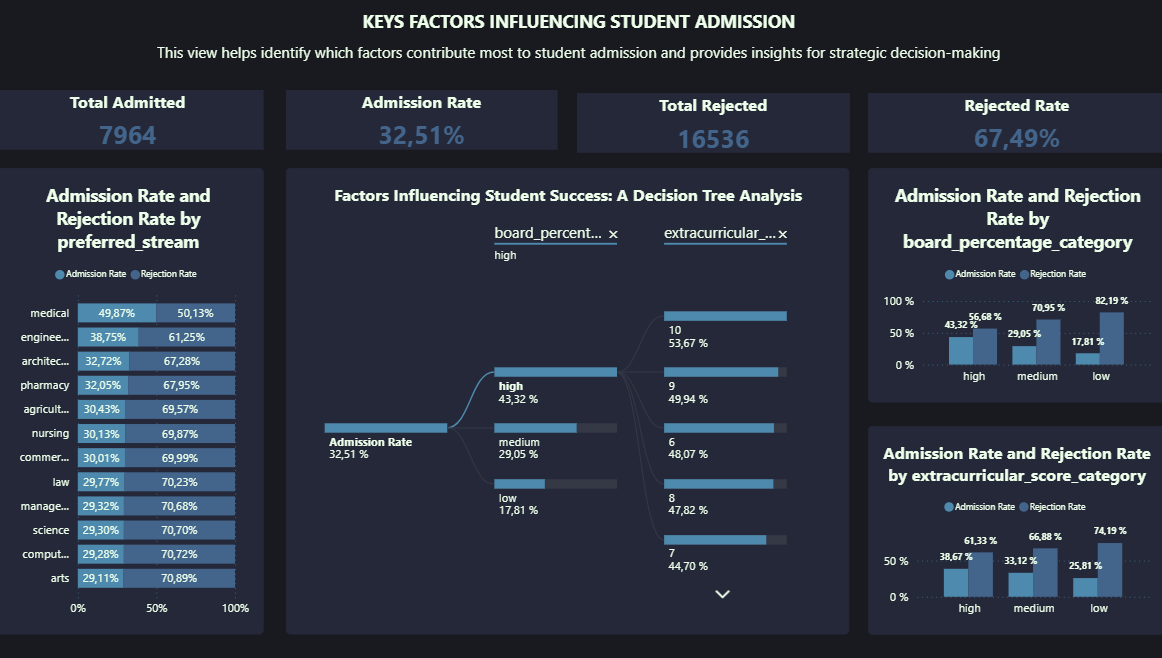

This screenshot's page, from the dashboard's own definition file:
{"tool":"powerbi","page":{"name":"Admission Drivers Analysis","canvas":[1280,720],"ordinal":2},"visuals":[{"type":"clusteredColumnChart","fields":{"Y":["College_Admission_Clean.Admission Rate","College_Admission_Clean.Rejection Rate"],"Category":["College_Admission_Clean.extracurricular_score_category"]},"box":[948,458.1,314.9,221.1],"z":2562},{"type":"clusteredColumnChart","fields":{"Category":["College_Admission_Clean.board_percentage_category"],"Y":["College_Admission_Clean.Admission Rate","College_Admission_Clean.Rejection Rate"]},"box":[948,185.2,316,248.4],"z":3250},{"type":"decompositionTreeVisual","title":"Factors Influencing Student Success: A Decision Tree Analysis","fields":{"Analyze":["College_Admission_Clean.Admission Rate"],"ExplainBy":["College_Admission_Clean.board_percentage_category","College_Admission_Clean.extracurricular_score"]},"box":[331.3,185.2,597.1,494.7],"z":4000},{"type":"hundredPercentStackedBarChart","fields":{"Category":["College_Admission_Clean.preferred_stream"],"Y":["College_Admission_Clean.Admission Rate","College_Admission_Clean.Rejection Rate"]},"box":[19.6,185.2,287.7,494.7],"z":5500},{"type":"card","title":"Rejected Rate","fields":{"Values":["College_Admission_Clean.Rejection Rate"]},"box":[948,104.6,316,63.2],"z":8000},{"type":"card","title":"Total Rejected","fields":{"Values":["College_Admission_Clean.Total Rejected"]},"box":[639.4,105,289,63.6],"z":9000},{"type":"card","title":"Admission Rate","fields":{"Values":["College_Admission_Clean.Admission Rate"]},"box":[331.3,102.4,287.7,63.2],"z":10000},{"type":"card","title":"Total Admitted","fields":{"Values":["College_Admission_Clean.Total Admitted"]},"box":[19.6,102.4,287.7,63.2],"z":11000},{"type":"textbox","box":[19.2,50.6,1244.5,34.9],"z":12000},{"type":"textbox","box":[19.2,15.7,1244.5,34.9],"z":13000}]}

Visuals, with their boxes in screenshot pixels (x1, y1, x2, y2), scaled from the page's 1280x720 canvas onto the 1162x658 screenshot:
clusteredColumnChart - College_Admission_Clean.Admission Rate x College_Admission_Clean.Rejection Rate: (x1=861, y1=419, x2=1146, y2=621)
clusteredColumnChart - College_Admission_Clean.board_percentage_category x College_Admission_Clean.Admission Rate: (x1=861, y1=169, x2=1147, y2=396)
"Factors Influencing Student Success: A Decision Tree Analysis" decompositionTreeVisual: (x1=301, y1=169, x2=843, y2=621)
hundredPercentStackedBarChart - College_Admission_Clean.preferred_stream x College_Admission_Clean.Admission Rate: (x1=18, y1=169, x2=279, y2=621)
"Rejected Rate" card: (x1=861, y1=96, x2=1147, y2=153)
"Total Rejected" card: (x1=580, y1=96, x2=843, y2=154)
"Admission Rate" card: (x1=301, y1=94, x2=562, y2=151)
"Total Admitted" card: (x1=18, y1=94, x2=279, y2=151)
textbox: (x1=17, y1=46, x2=1147, y2=78)
textbox: (x1=17, y1=14, x2=1147, y2=46)
